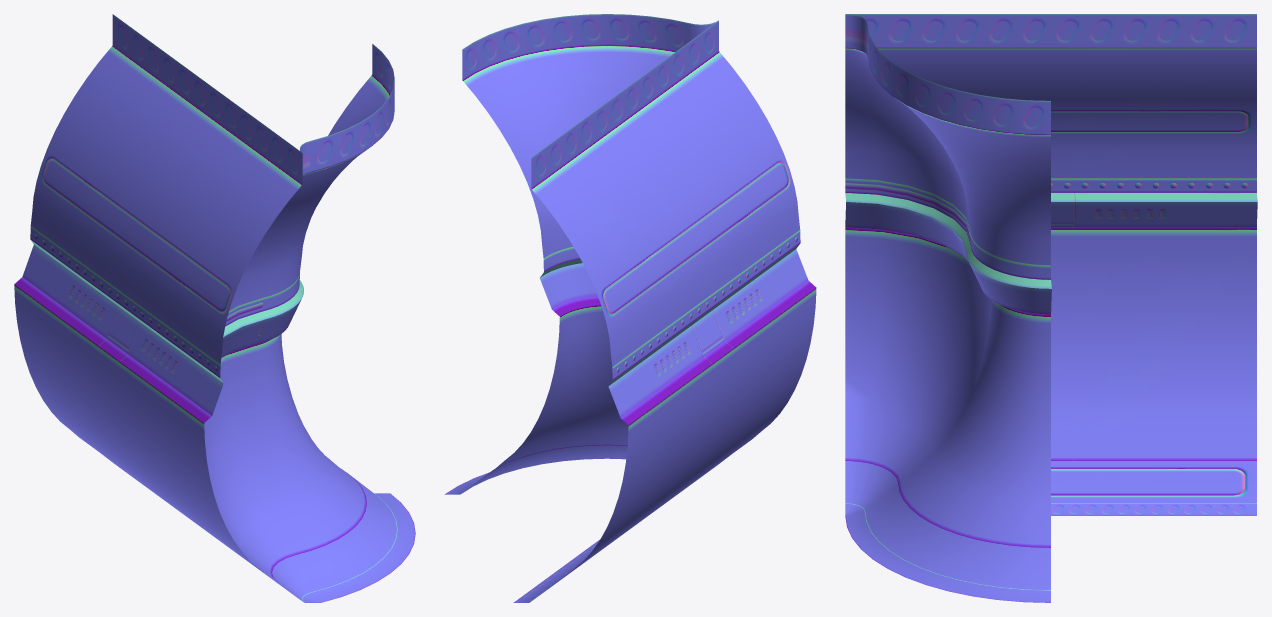
The model's file is S_MetalWall_01.fbx.
3 views of the same model, side by side, from view 1: azimuth 30°, elevation 25°; view 2: azimuth 150°, elevation 25°; view 3: azimuth 270°, elevation 25° (orthographic). The views are drawn at different scales.
Visible parts, largest first — view 1: S_MetalWall_01, S_MetalWallCorner_01, S_MetalWallCorner_02; view 2: S_MetalWall_01, S_MetalWallCorner_01; view 3: S_MetalWall_01, S_MetalWallCorner_01, S_MetalWallCorner_02.
Boxes of the visible parts, x1,y1,x2,y2 form: S_MetalWall_01: (14, 14, 302, 598); S_MetalWallCorner_01: (253, 44, 415, 602); S_MetalWallCorner_02: (204, 141, 320, 602); S_MetalWall_01: (513, 20, 816, 602); S_MetalWallCorner_01: (444, 14, 690, 494); S_MetalWall_01: (848, 14, 1257, 515); S_MetalWallCorner_01: (845, 25, 1051, 602); S_MetalWallCorner_02: (845, 14, 990, 515).
Bounding box in the file's own units: 171 × 264 × 200.
